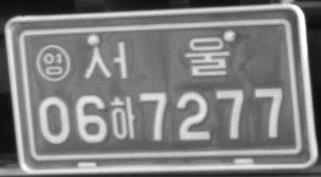0: (37, 95, 71, 144)
2: (175, 90, 212, 141)
6: (75, 93, 107, 143)
7: (253, 86, 283, 139), (138, 90, 167, 141), (215, 88, 244, 139)
서울_D: (83, 36, 229, 80)
영: (35, 43, 71, 82)
하: (109, 95, 135, 139)
